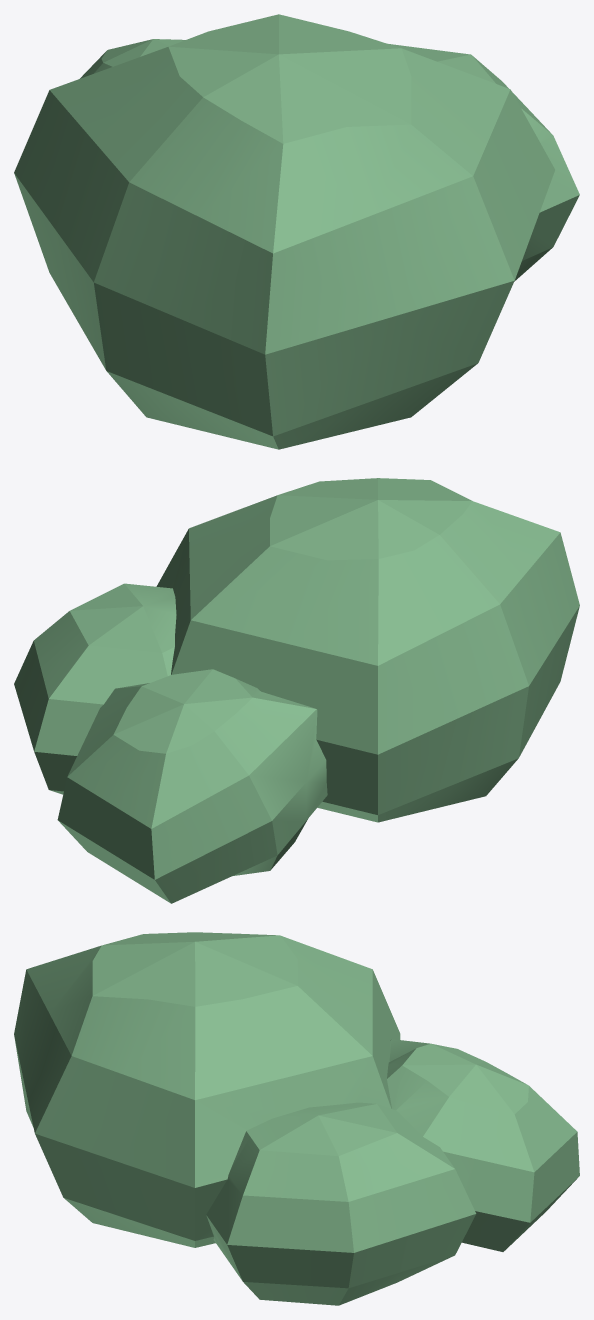
File: bush03.fbx
The picture shows the model from 3 angles, top to bottom: view 1: azimuth 30°, elevation 25°; view 2: azimuth 150°, elevation 25°; view 3: azimuth 270°, elevation 25°; orthographic projection. The views are drawn at different scales.
Visible parts, largest first — view 1: pSphere11; view 2: pSphere11; view 3: pSphere11.
Part boxes in pixels (x1,y1,x2,y2): pSphere11: (14,14,579,449); pSphere11: (14,478,579,903); pSphere11: (14,932,579,1305).
Bounding box in the file's own units: 4.16 × 2.52 × 4.98.
